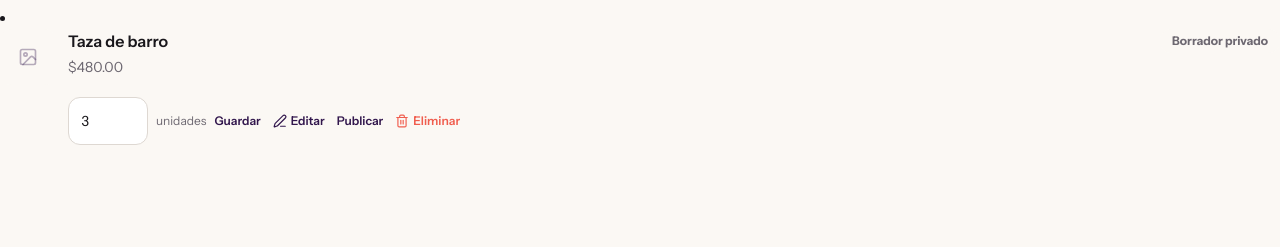
Test: ProductRow › lists missing publication requirements and links to the editor
The image size is (1280, 247).
Click the button "Publicar" at coordinates (360, 121), box x1=337 y1=99 x2=383 y2=143
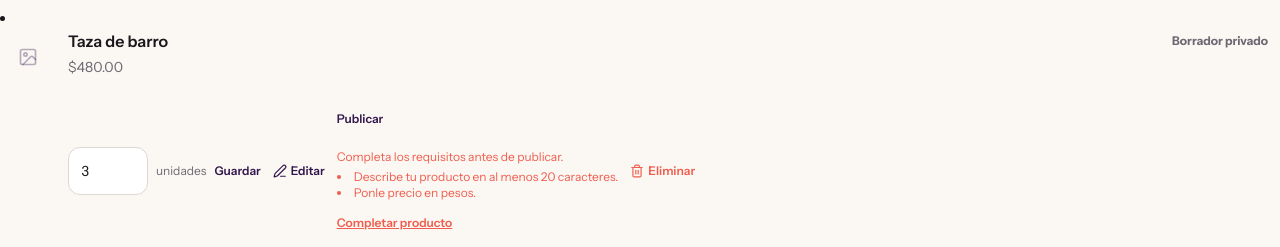
Expected: the message shows "Completa los requisitos antes de publicar.", x1=337 y1=149 x2=564 y2=164
Expected: the list item "Describe tu producto en al menos 20 caracteres." is shown, x1=337 y1=169 x2=618 y2=185
Expected: the list item "Ponle precio en pesos." is shown, x1=354 y1=185 x2=476 y2=200
